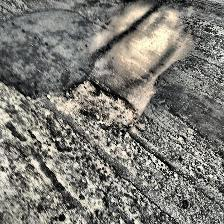pothole: (48, 79, 136, 131)
